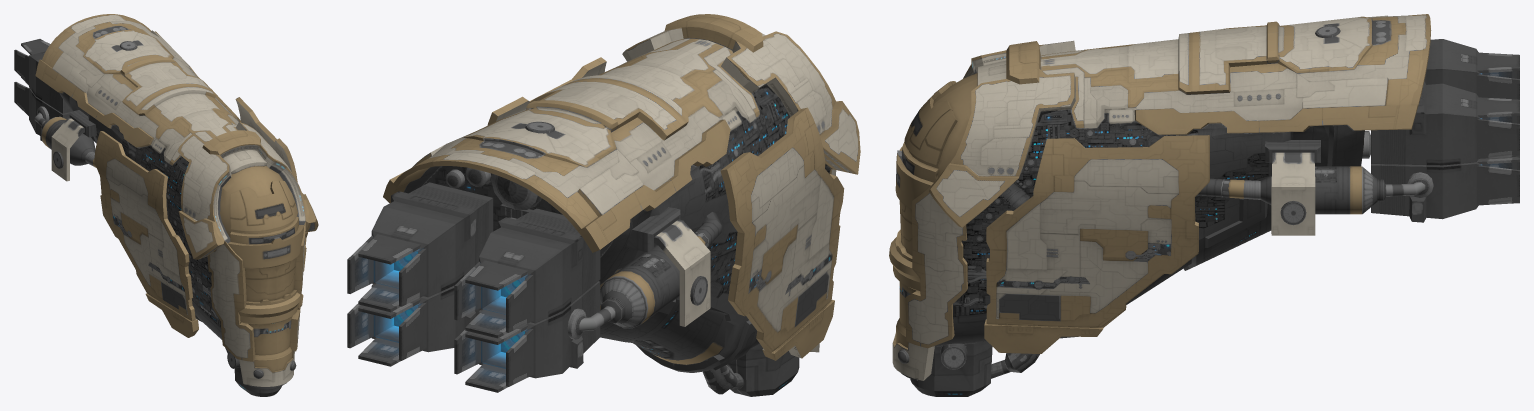
Rendered from 625_lite.glb.
3 views of the same model, side by side, from view 1: azimuth 30°, elevation 25°; view 2: azimuth 150°, elevation 25°; view 3: azimuth 270°, elevation 25° (orthographic). The views are drawn at different scales.
Parts seen in each view (by area): view 1: ship; view 2: ship; view 3: ship.
Boxes of the visible parts, x1,y1,x2,y2 form: ship: (14, 14, 318, 396); ship: (347, 14, 860, 396); ship: (889, 14, 1519, 396).
Size of the model in its own units: 0.7664 by 1.11 by 1.75.
1 material, 1 textured.
